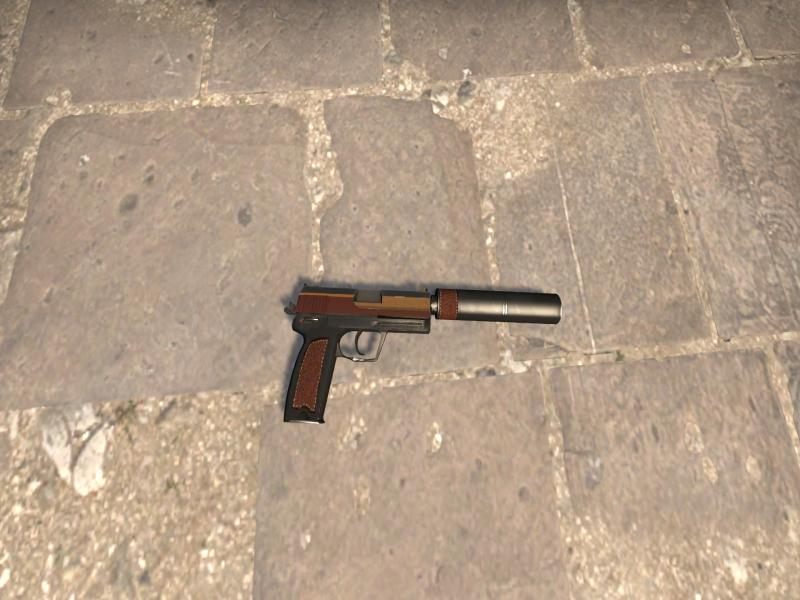USP: (284, 286, 562, 423)
